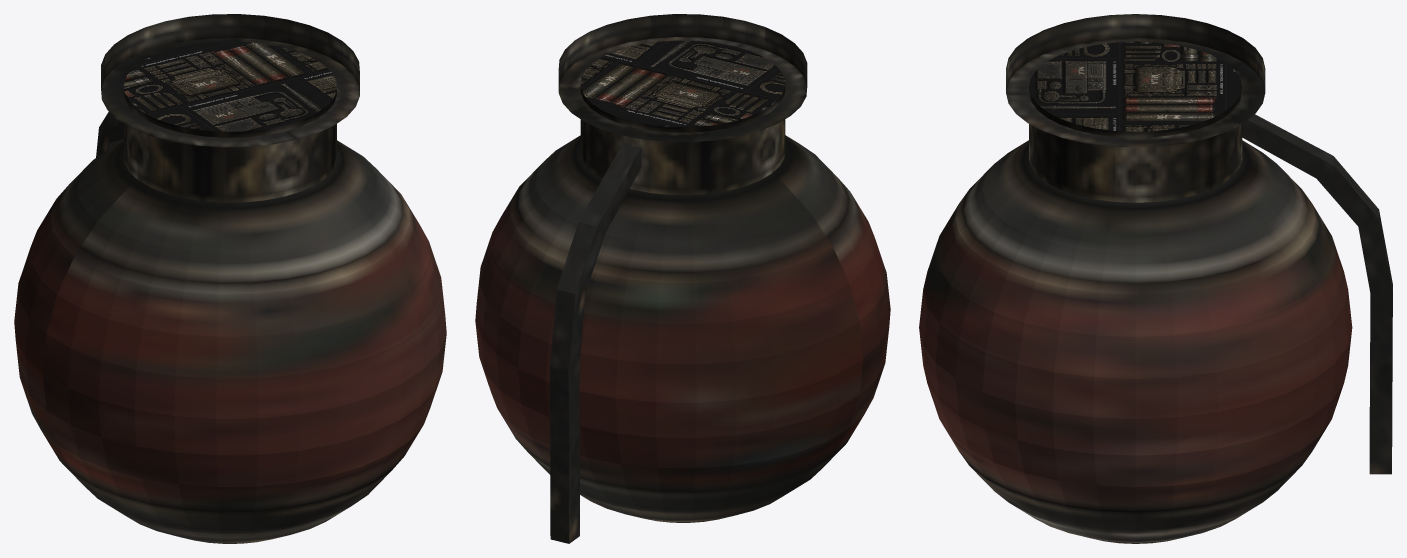
Rendered from frag_grenade.dae.
3 views of the same model, side by side, from view 1: azimuth 30°, elevation 25°; view 2: azimuth 150°, elevation 25°; view 3: azimuth 270°, elevation 25° (orthographic). The views are drawn at different scales.
Visible parts, largest first — view 1: Icosphere; view 2: Icosphere; view 3: Icosphere.
Part boxes in pixels (x1,y1,x2,y2): Icosphere: (14,14,446,543); Icosphere: (475,14,890,543); Icosphere: (919,14,1392,543).
Size of the model in its own units: 0.4 by 0.4375 by 0.4636.
